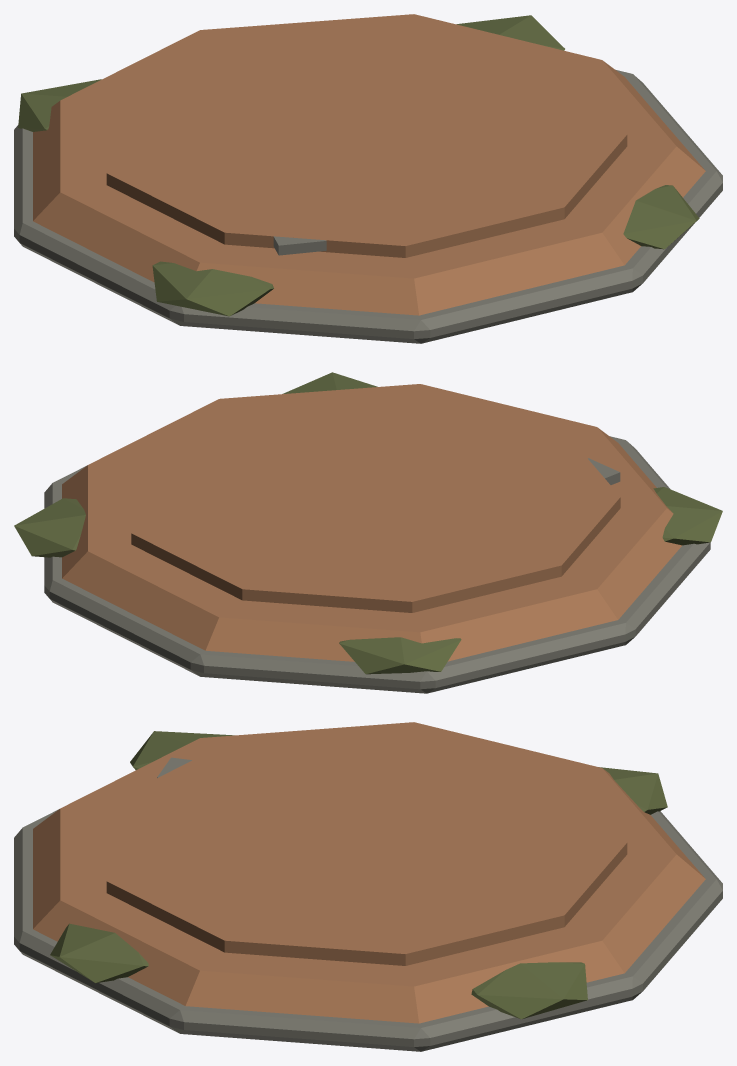
File: prop_path_stone_round_a.glb
3 views of the same model, one above another, from view 1: azimuth 30°, elevation 25°; view 2: azimuth 150°, elevation 25°; view 3: azimuth 270°, elevation 25° (orthographic). The views are drawn at different scales.
Parts seen in each view (by area): view 1: stepper_body, stepper_bed; view 2: stepper_body, stepper_bed; view 3: stepper_body, stepper_bed.
Part boxes in pixels (x1=…): stepper_body: x1=33, y1=14, x2=705, y2=315; stepper_bed: x1=14, y1=15, x2=722, y2=343; stepper_body: x1=62, y1=384, x2=681, y2=661; stepper_bed: x1=14, y1=372, x2=722, y2=693; stepper_body: x1=33, y1=722, x2=705, y2=1023; stepper_bed: x1=14, y1=731, x2=722, y2=1051.
Bounding box in the file's own units: 0.657 × 0.061 × 0.6471.
